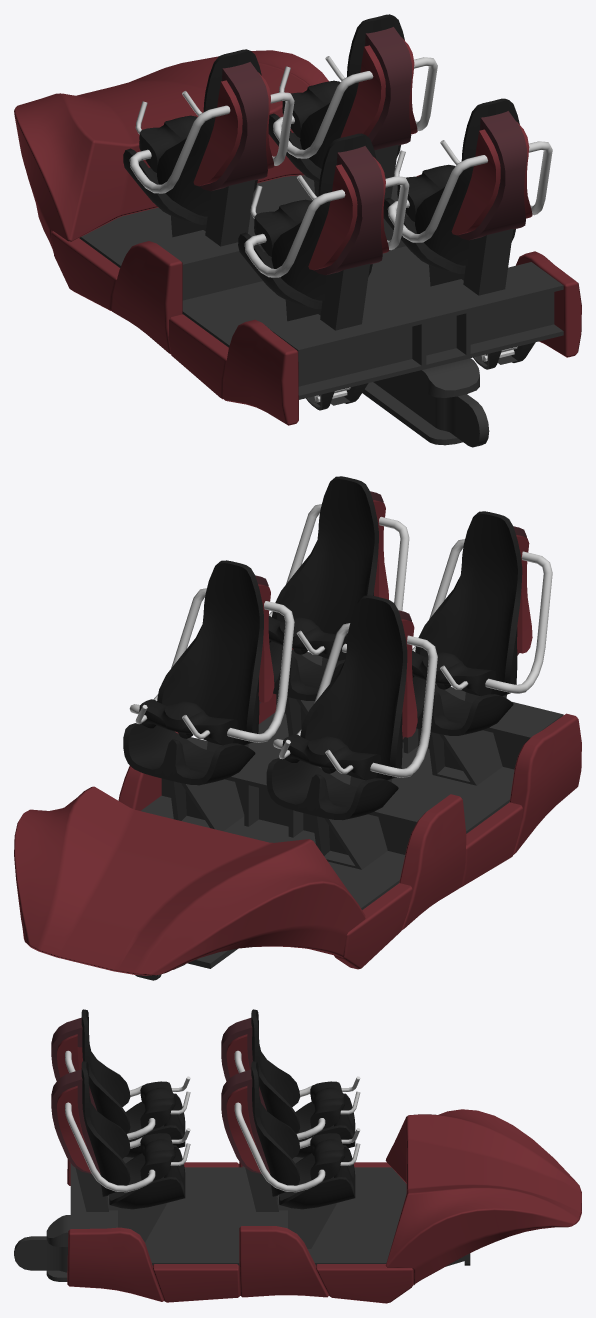
Rendered from LSM_FrontCar.glb.
3 views of the same model, one above another, from view 1: azimuth 30°, elevation 25°; view 2: azimuth 150°, elevation 25°; view 3: azimuth 270°, elevation 25° (orthographic). The views are drawn at different scales.
Parts seen in each view (by area): view 1: LSM_Front; view 2: LSM_Front; view 3: LSM_Front.
Part boxes in pixels (bbox=[...]): LSM_Front: bbox=[14, 14, 581, 447]; LSM_Front: bbox=[14, 476, 581, 980]; LSM_Front: bbox=[14, 1009, 581, 1303].
Bounding box in the file's own units: 2.28 × 2.22 × 5.02.
1 material, 1 textured.
